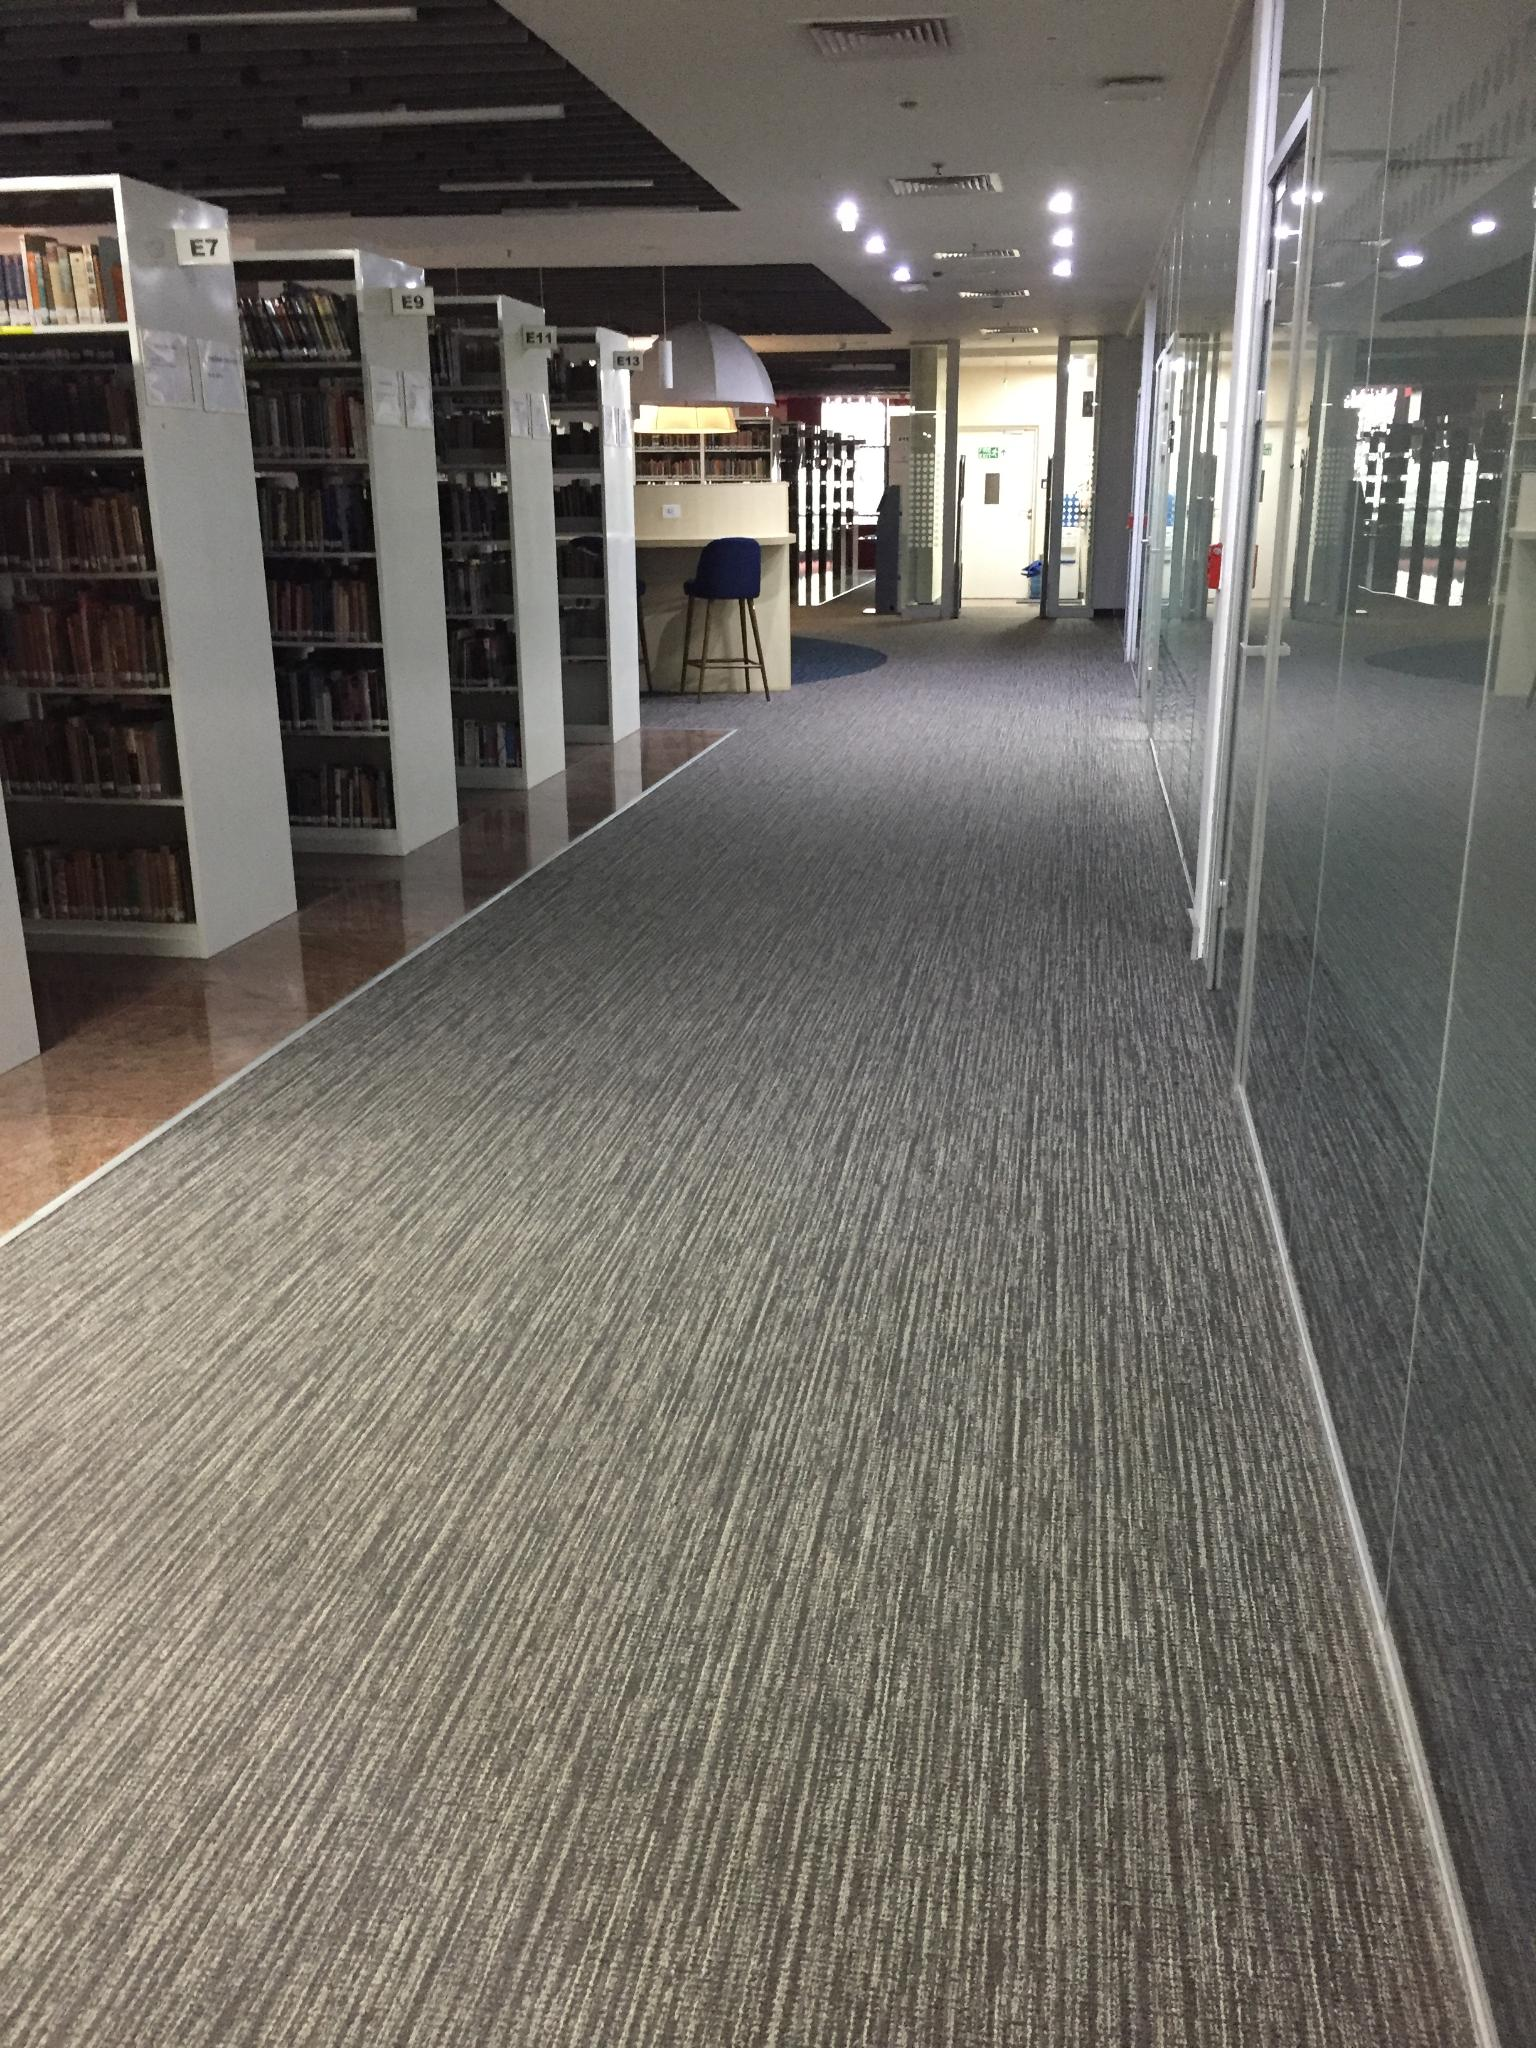chair: (678, 536, 770, 702)
